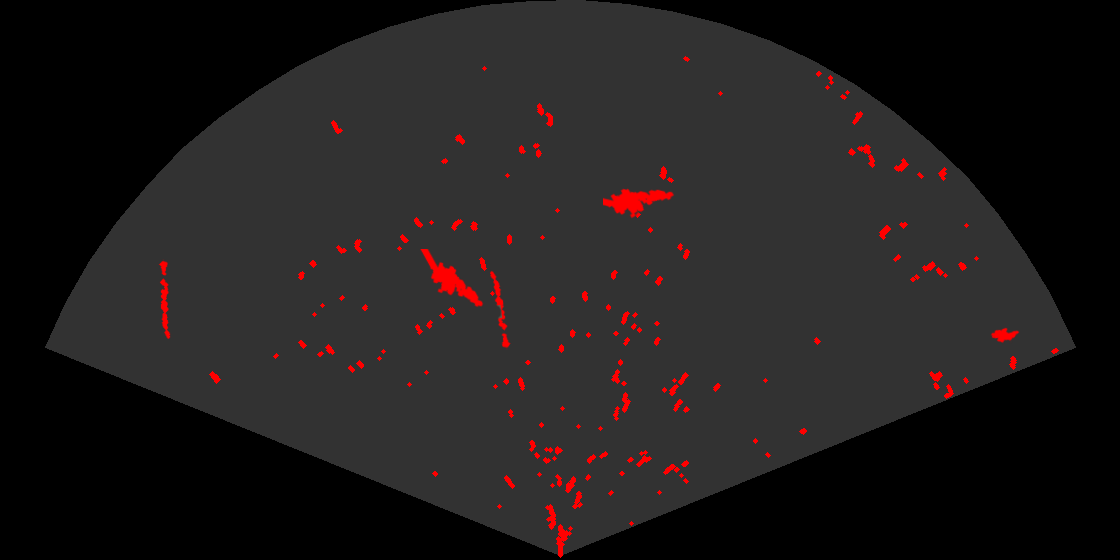AUV: (989, 326, 1021, 345)
chain: (488, 269, 512, 350), (157, 259, 172, 339)
frogman: (420, 249, 485, 309), (603, 187, 675, 220)
